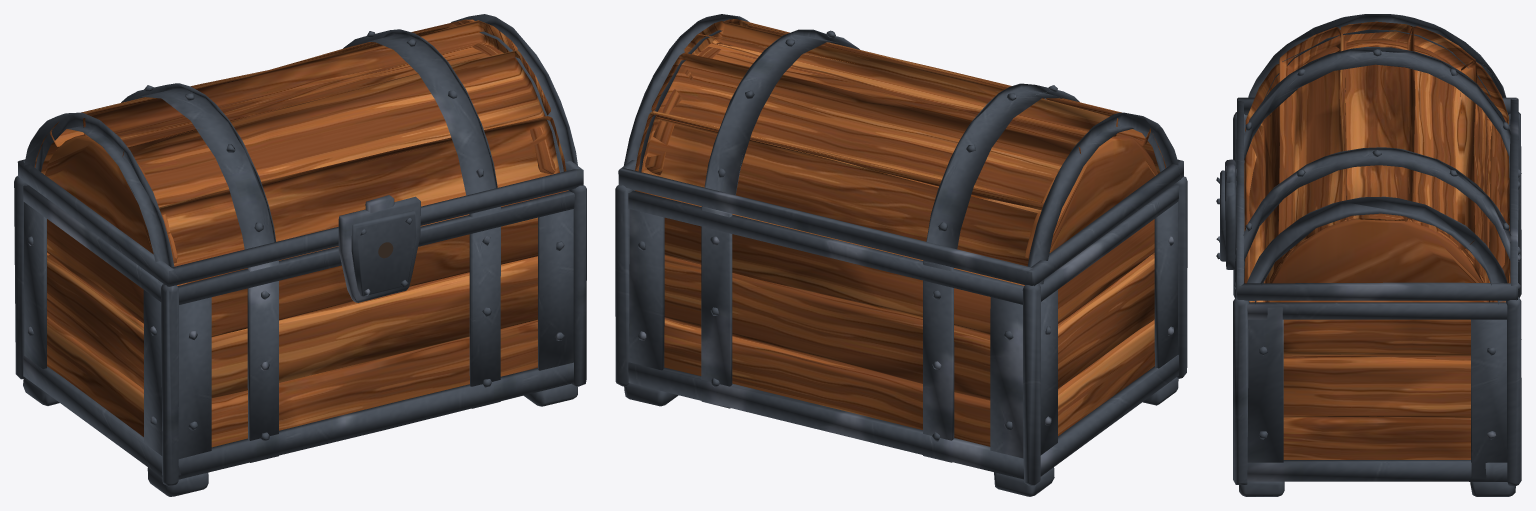
Rendered from forziere114.glb.
3 views of the same model, side by side, from view 1: azimuth 30°, elevation 25°; view 2: azimuth 150°, elevation 25°; view 3: azimuth 270°, elevation 25° (orthographic). The views are drawn at different scales.
Parts seen in each view (by area): view 1: Cassa, Coperchio; view 2: Cassa, Coperchio; view 3: Coperchio, Cassa.
Part boxes in pixels (x1,y1,x2,y2): Cassa: [14, 176, 586, 496]; Coperchio: [17, 14, 583, 302]; Cassa: [615, 176, 1187, 496]; Coperchio: [618, 14, 1183, 285]; Coperchio: [1216, 14, 1518, 304]; Cassa: [1216, 112, 1521, 496].
Size of the model in its own units: 1.37 by 1.02 by 0.924.
3 materials, 2 textured.
